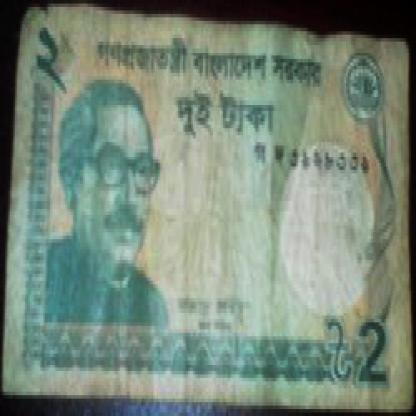two taka: (359, 302, 388, 409), (32, 28, 68, 114)
